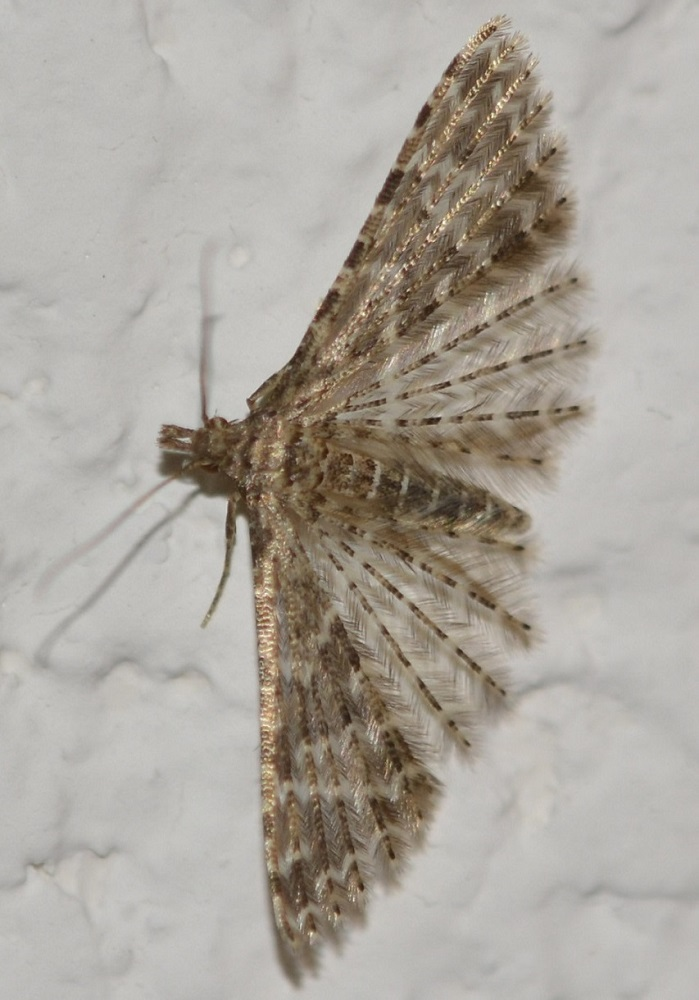Alucitidae: (44, 9, 601, 986)
moth: (42, 7, 599, 984)
